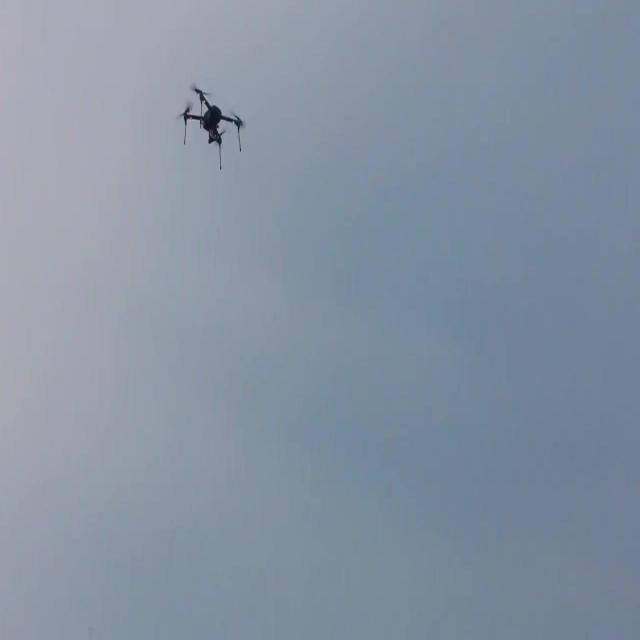UAV: (176, 82, 246, 172)
